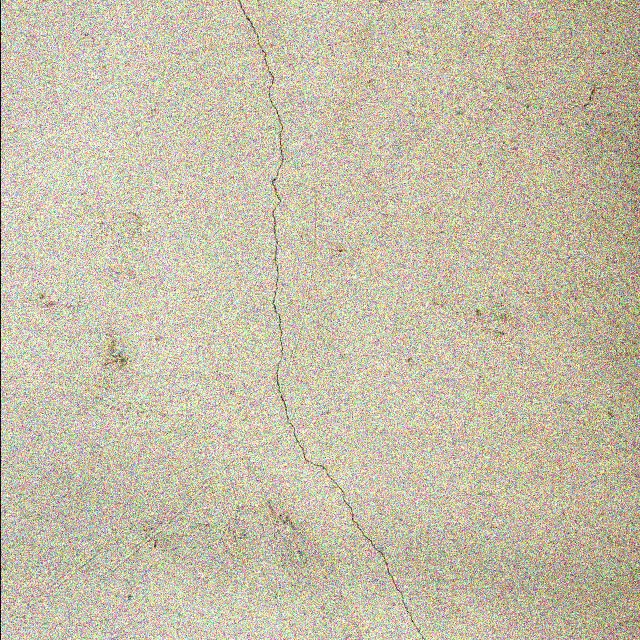SurfaceCrack: (222, 1, 453, 640)
